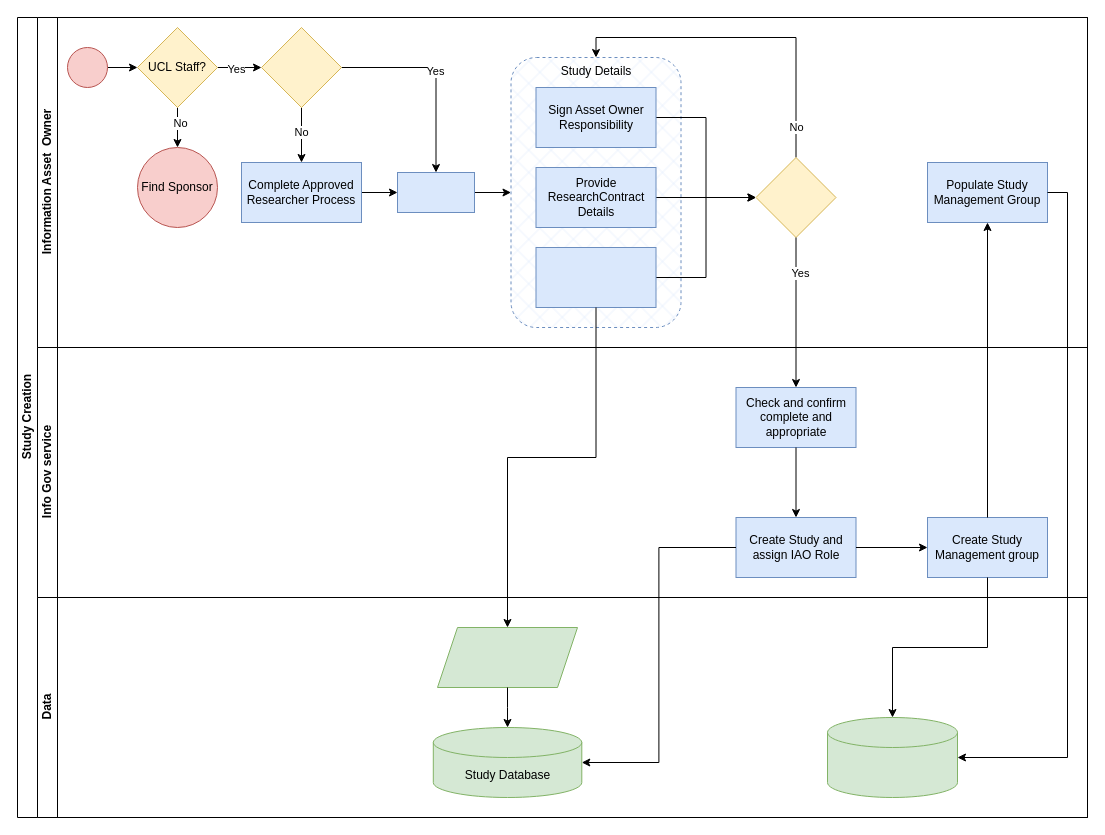
Some shapes in this 1105 by 835 pixel diagram are drawn without their labels. The shapes that lost their labels are listed below. From the top down, each one's centre as x and y in pixels, then its label:
At point (87, 67): "Start".
At point (301, 67): "Approved Researcher".
At point (435, 192): "Complete Study Details".
At point (795, 197): "All tasks complete".
At point (595, 277): "Complete Risk Assessment".
At point (507, 657): "- Study Details - Contracts - Risk assessment".
At point (892, 757): "Directory/Access control".
